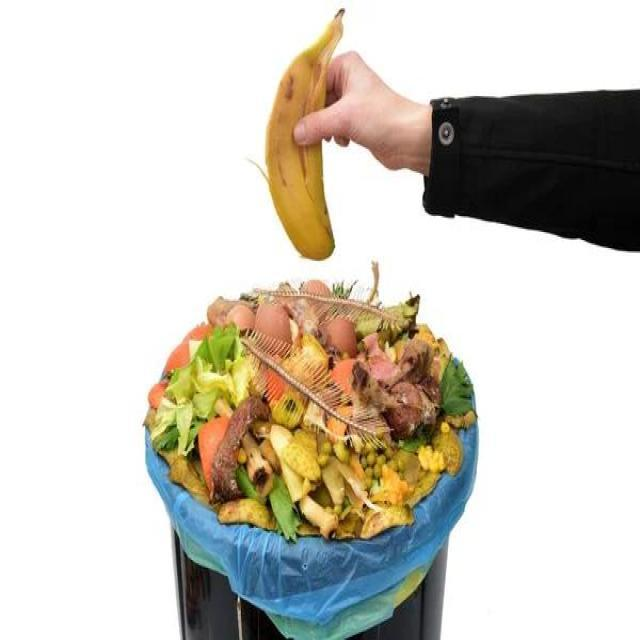Garbage: (144, 275, 478, 538)
